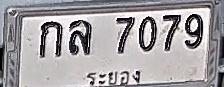0: (138, 15, 157, 51)
7: (162, 14, 181, 50), (116, 16, 134, 53)
9: (184, 13, 202, 48)
A01: (40, 20, 62, 58)
A36: (68, 19, 92, 55)
RYG: (85, 67, 145, 87)
